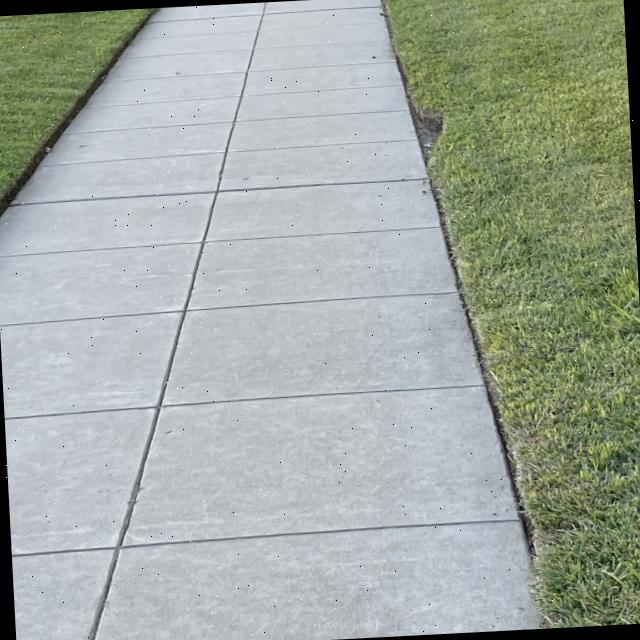walkway: (13, 226, 449, 420), (19, 345, 424, 523), (23, 500, 504, 640), (42, 135, 421, 293), (103, 59, 404, 198)
walkway-edge: (427, 259, 551, 562), (457, 354, 574, 626), (406, 176, 522, 403), (366, 0, 459, 237), (368, 27, 453, 186), (0, 141, 53, 229), (119, 8, 182, 78), (47, 90, 94, 161), (88, 48, 138, 108)
